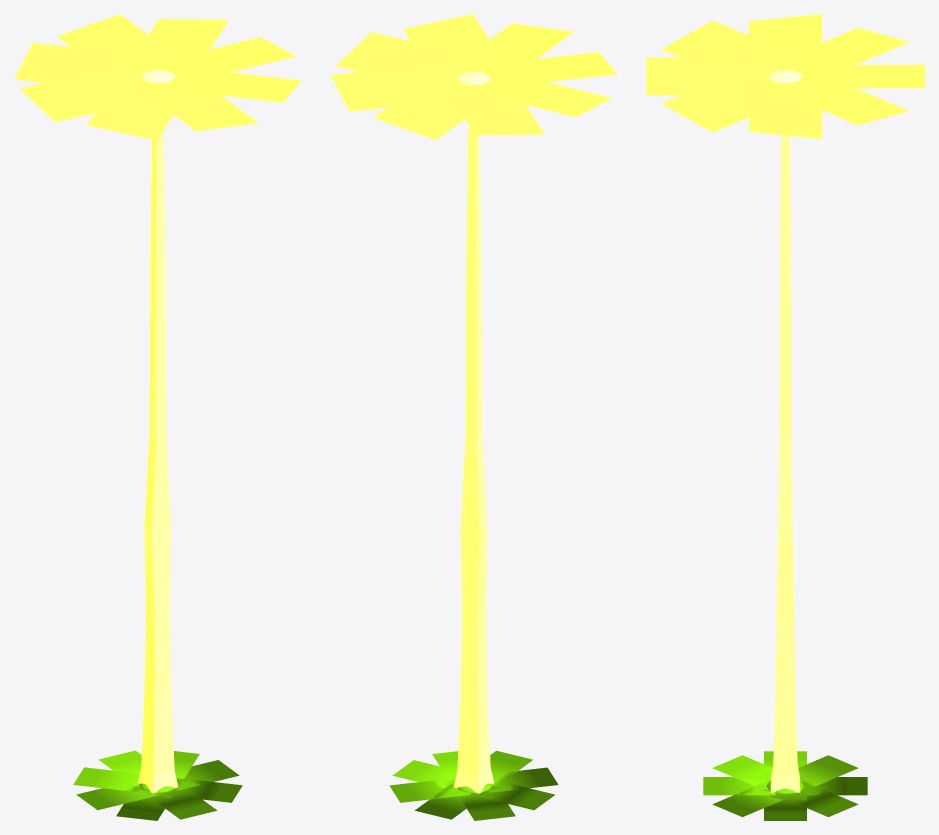
The model's file is FLO001_Yellow_forTest.fbx.
3 renders of one model, left to right at view 1: azimuth 30°, elevation 25°; view 2: azimuth 150°, elevation 25°; view 3: azimuth 270°, elevation 25°, orthographic.
Visible parts, largest first — view 1: Leaf, floor; view 2: Leaf, floor; view 3: Leaf, floor.
Boxes of the visible parts, x1,y1,x2,y2 form: Leaf: (14,14,301,793); floor: (73,750,242,820); Leaf: (330,14,616,793); floor: (389,750,558,820); Leaf: (646,14,924,792); floor: (703,751,867,820).
Bounding box in the file's own units: 0.356 × 0.356 × 1.02.
